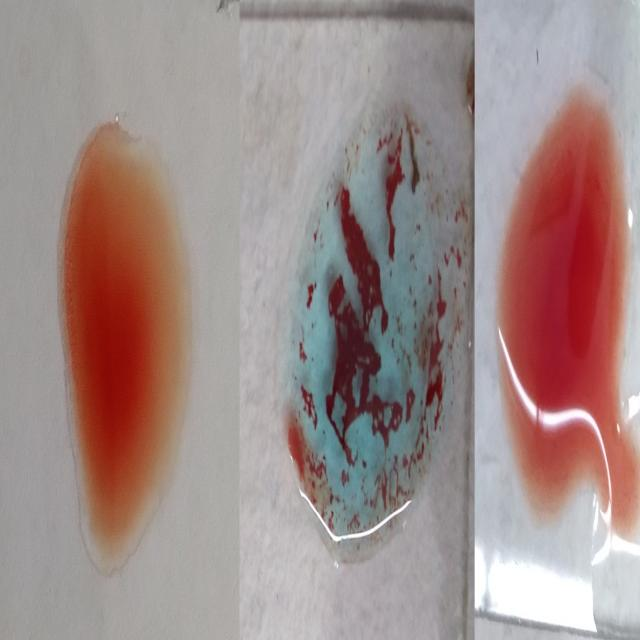A: (279, 75, 463, 566)
